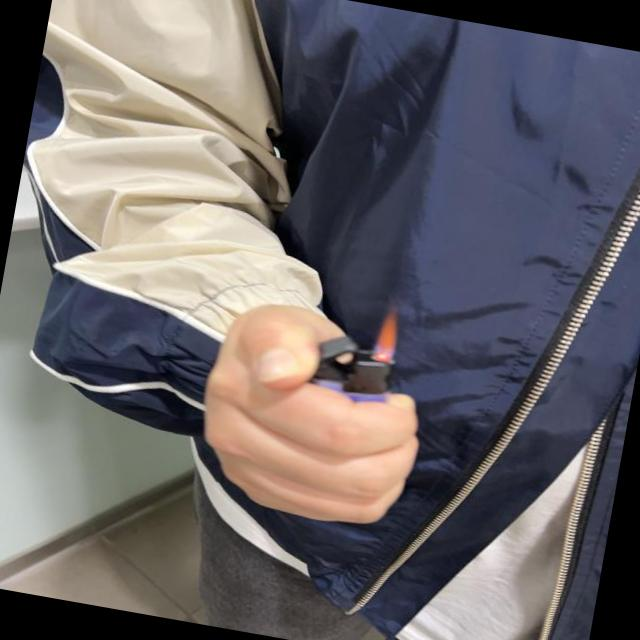Fire: (369, 309, 401, 364)
